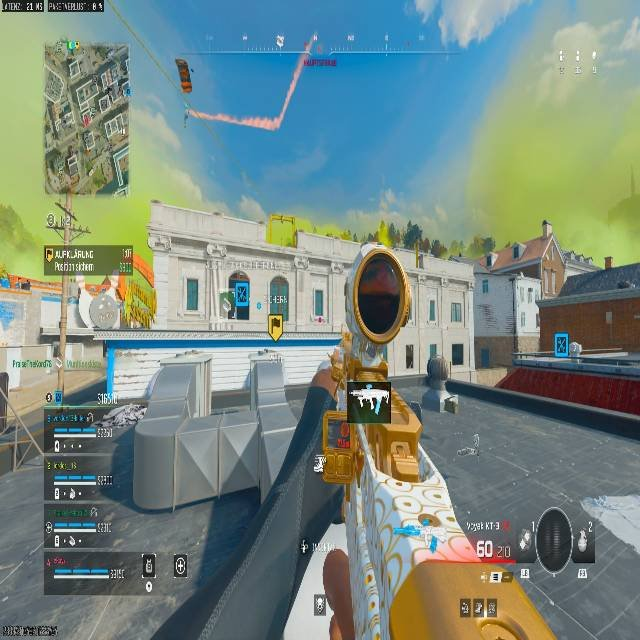player: (409, 224, 431, 274)
